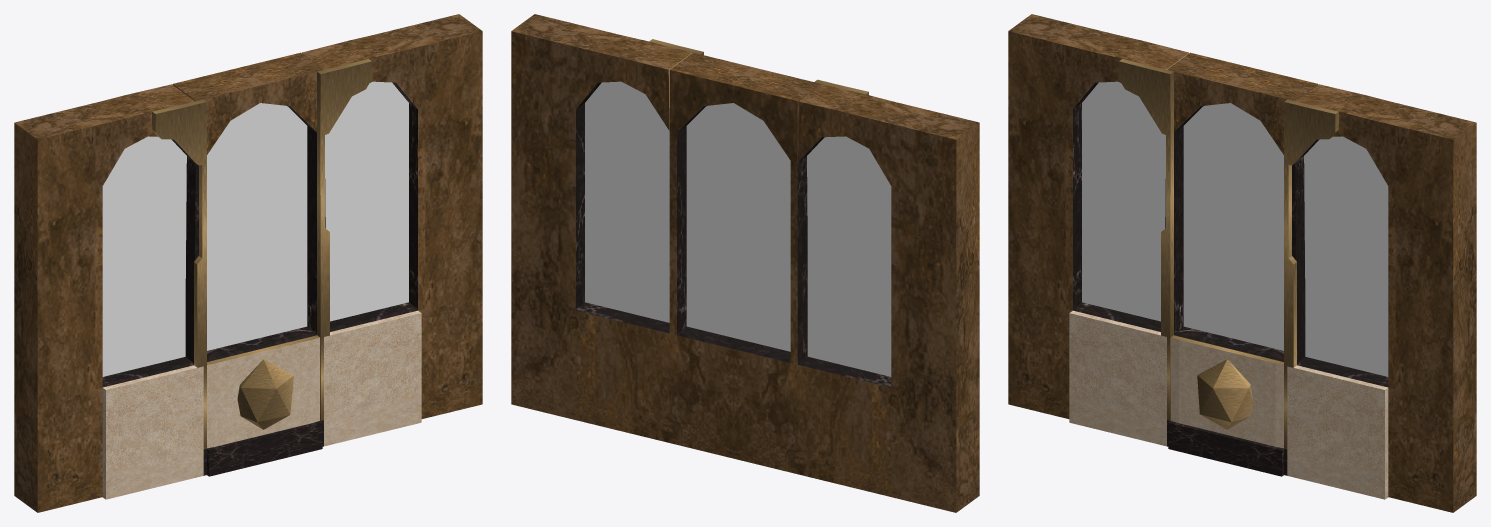
Rendered from hubwindows.gltf.
The picture shows the model from 3 angles, left to right: view 1: azimuth 30°, elevation 25°; view 2: azimuth 150°, elevation 25°; view 3: azimuth 330°, elevation 25°; orthographic projection.
Parts seen in each view (by area): view 1: Cube; view 2: Cube; view 3: Cube.
Part boxes in pixels (x1,y1,x2,y2): Cube: (14,14,482,512); Cube: (511,14,979,512); Cube: (1008,14,1476,512).
Size of the model in its own units: 52.18 by 41.84 by 8.23.
Materials: 2 (1 with a texture image).
